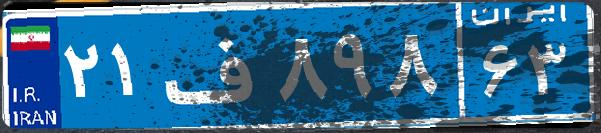1: (110, 28, 158, 105)
2: (57, 26, 110, 107)
3: (525, 38, 570, 115)
6: (475, 38, 525, 113)
8: (385, 28, 445, 110), (273, 28, 330, 110)
9: (330, 28, 385, 110)
ف: (158, 15, 273, 115)
